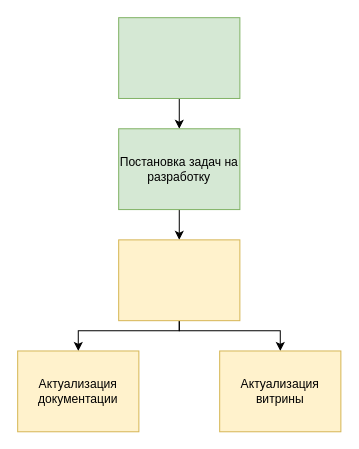
The diagram is 359 pixels wide and 449 high, and some of its shapes have lost their labels. The centre of each missing label's shape, as x and y in pixels:
"Реализация функционала JSI" goes at [179,280].
"Формирование требований к JSI" goes at [179,57].
